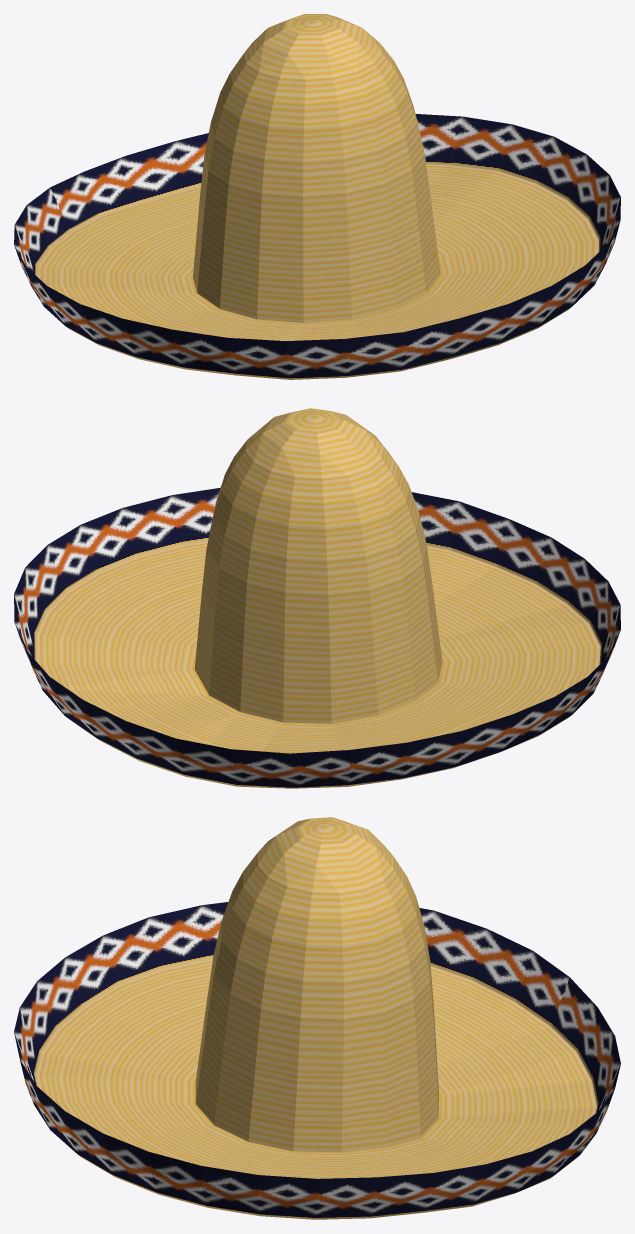
File: low_quality_sombrero.fbx
3 renders of one model, top to bottom at view 1: azimuth 30°, elevation 25°; view 2: azimuth 150°, elevation 25°; view 3: azimuth 270°, elevation 25°, orthographic. The views are drawn at different scales.
Parts seen in each view (by area): view 1: Sombrero; view 2: Sombrero; view 3: Sombrero.
Part boxes in pixels (x1,y1,x2,y2): Sombrero: [14, 14, 620, 379]; Sombrero: [14, 408, 620, 788]; Sombrero: [14, 817, 620, 1219].
Bounding box in the file's own units: 129 × 61.63 × 117.
